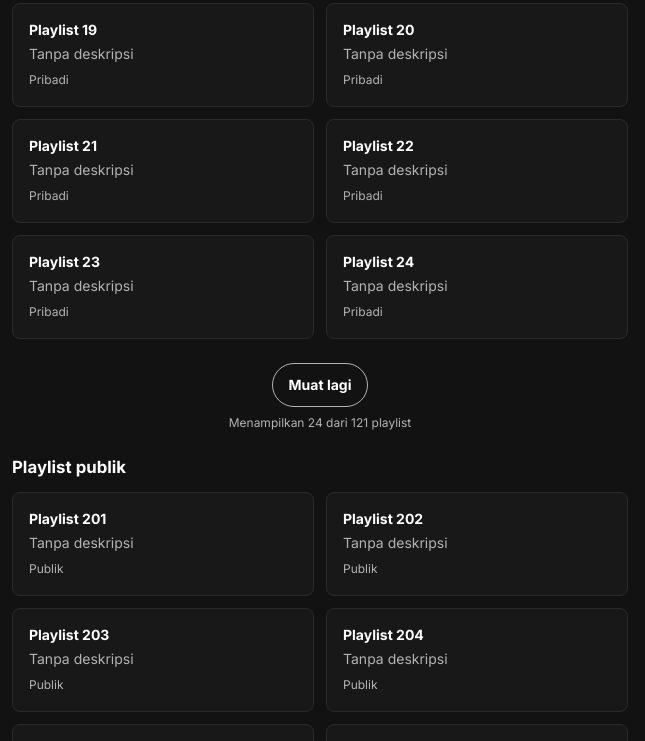
Scenario: PlaylistsPage pagination › keeps earlier pages and retries the same offset after a page error
This screenshot has width=645, height=741.
(page scrolled)
Click the button "Muat lagi": (320, 385) [272,363,368,407]
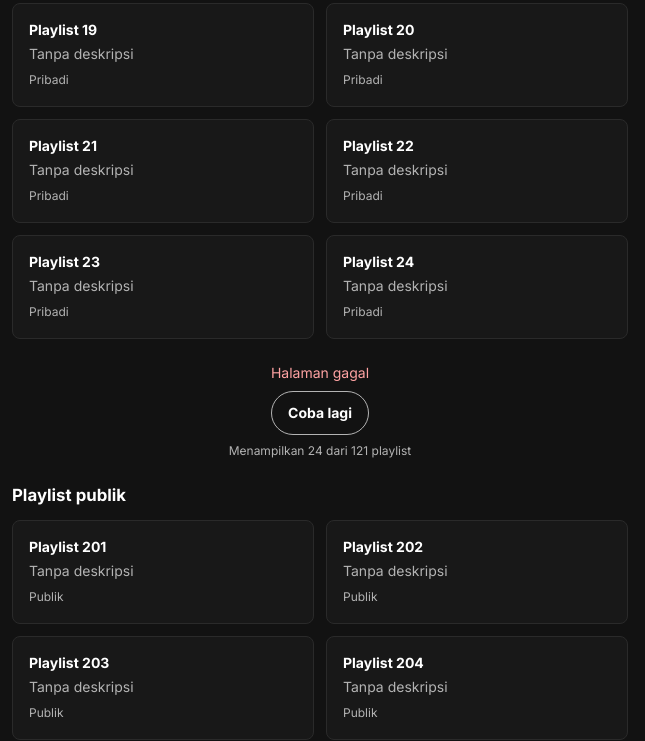
Result: the text "Halaman gagal" is shown at [271,363,369,383]
Click the button "Coba lagi": (320, 413) [271,391,369,435]
(page scrolled)
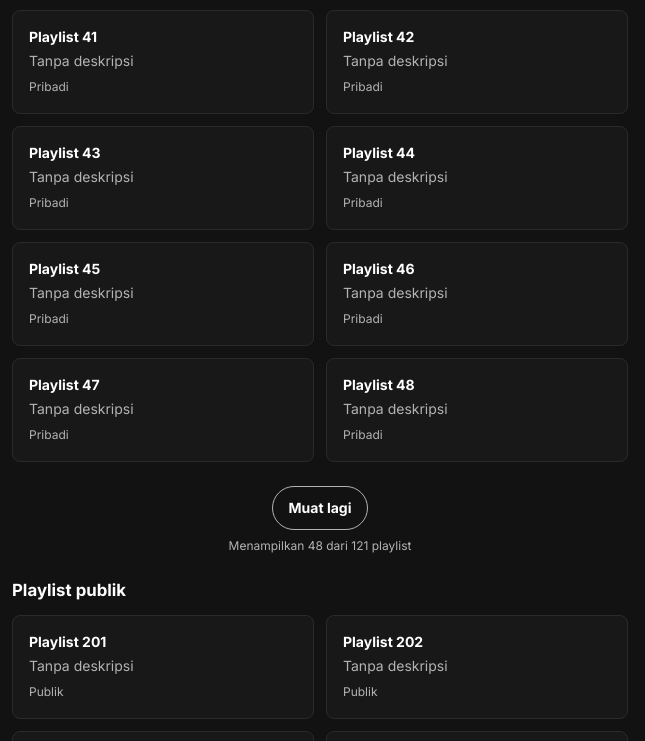
Result: the text "Playlist 48" is shown at [343,376,415,393]
